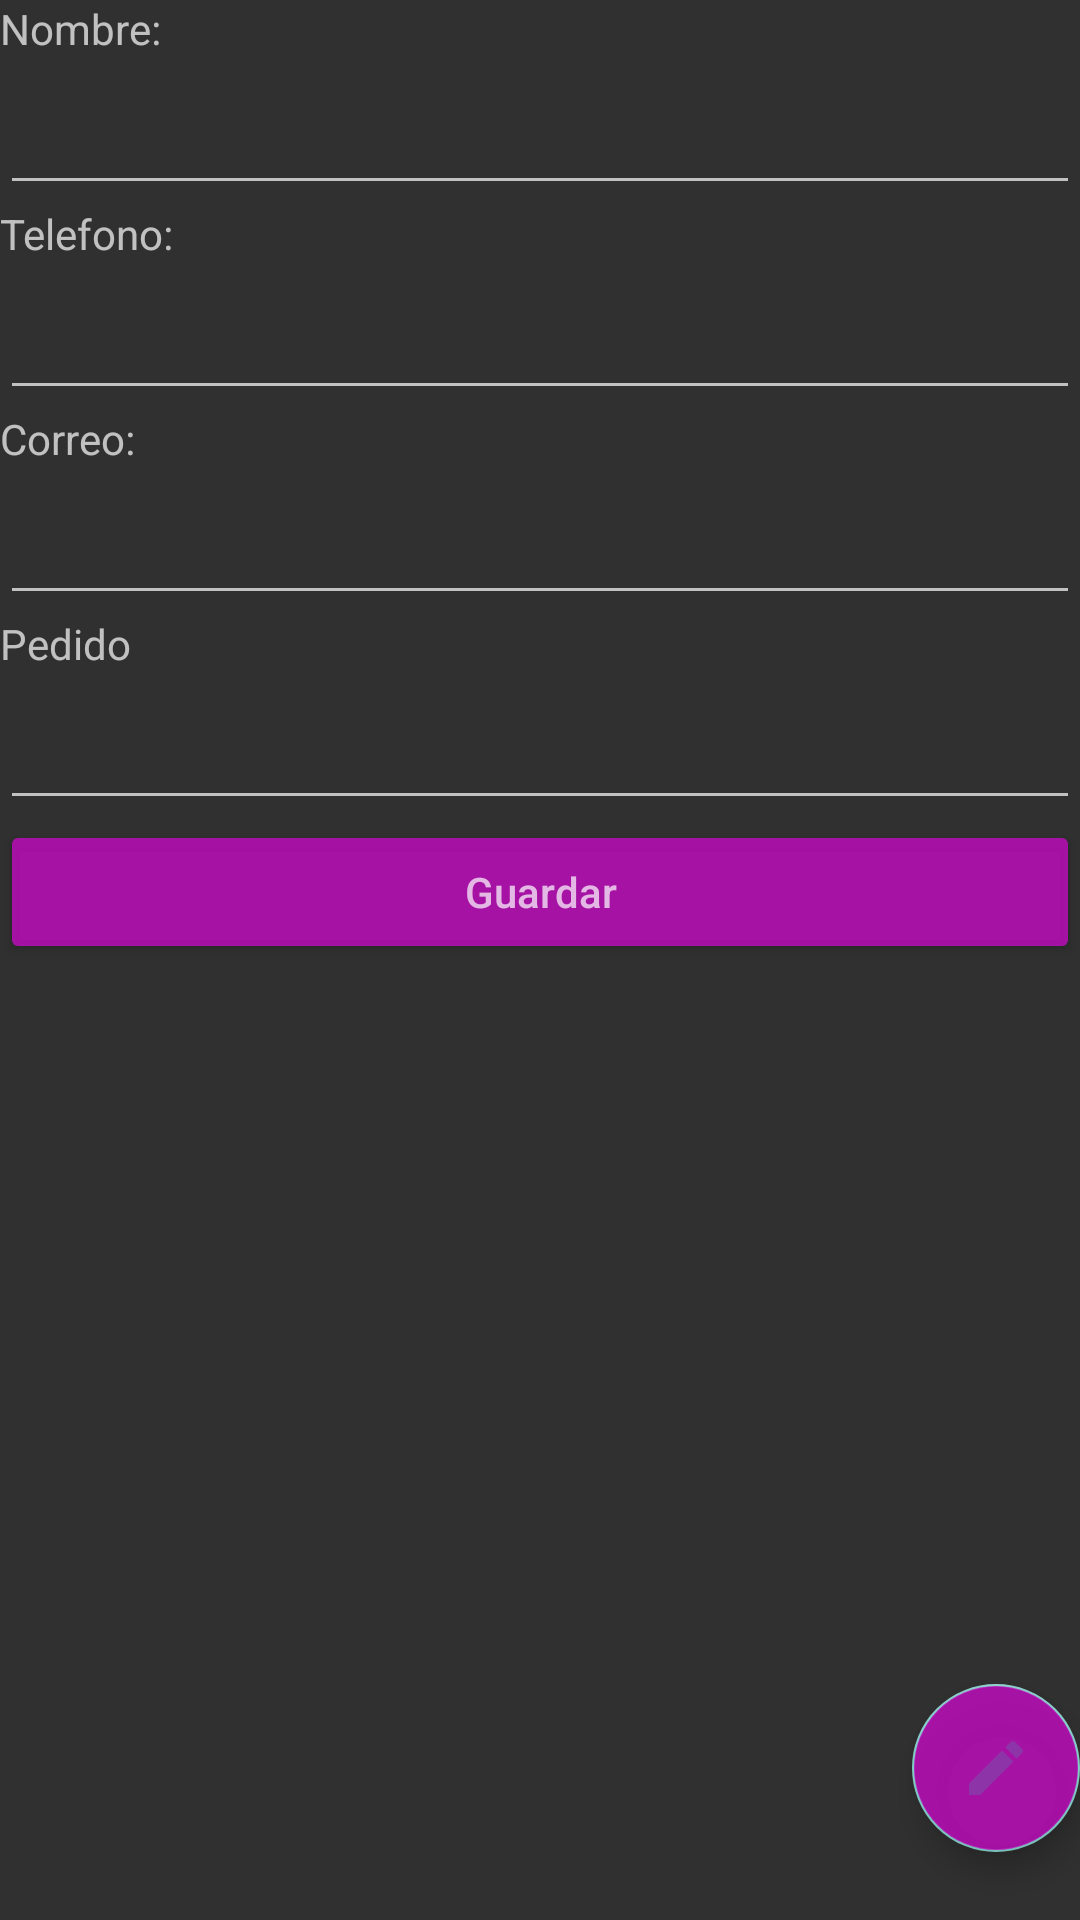

Named icons in this screenshot (1080px×1920px) and their centers, (x=x, y=y):
edit: (x=996, y=1768)
